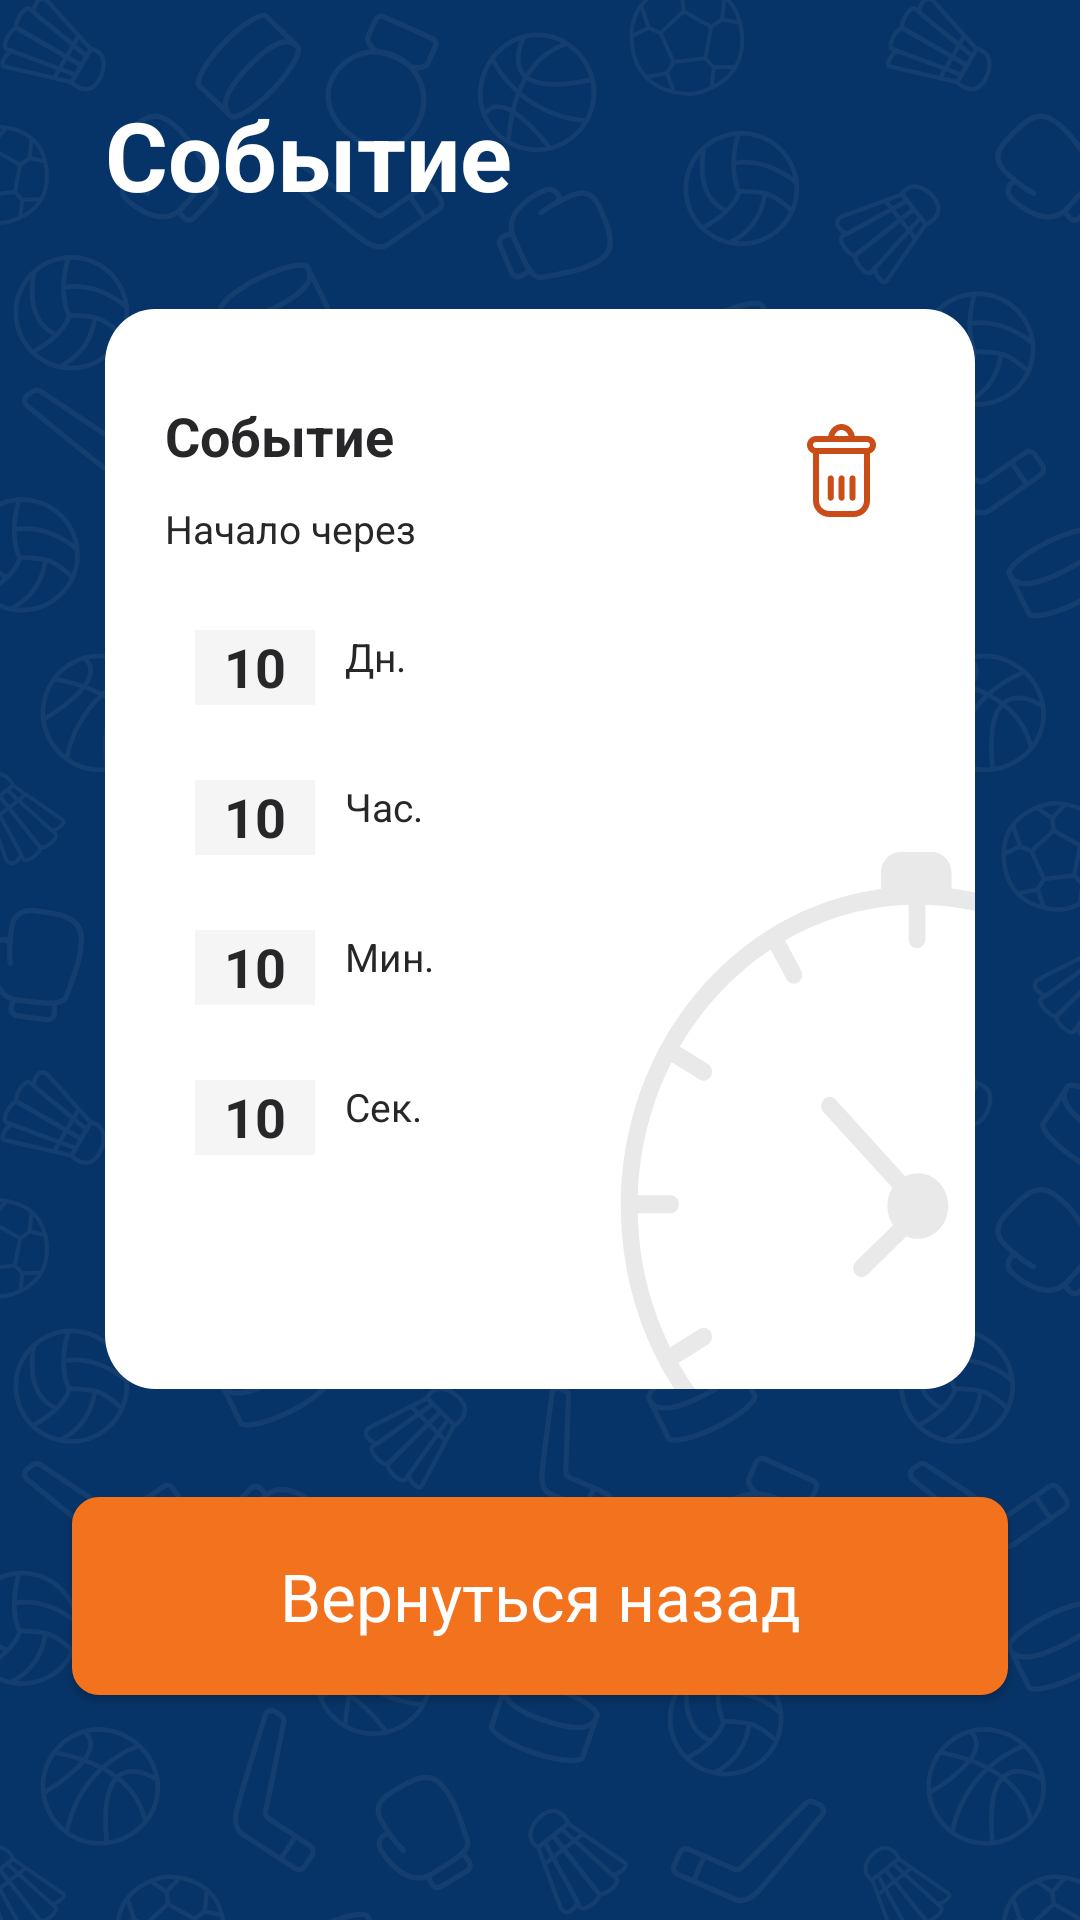

Named icons in this screenshot (1080px x 1920px) and their centers, (x=x, y=y):
delete: (x=841, y=470)
